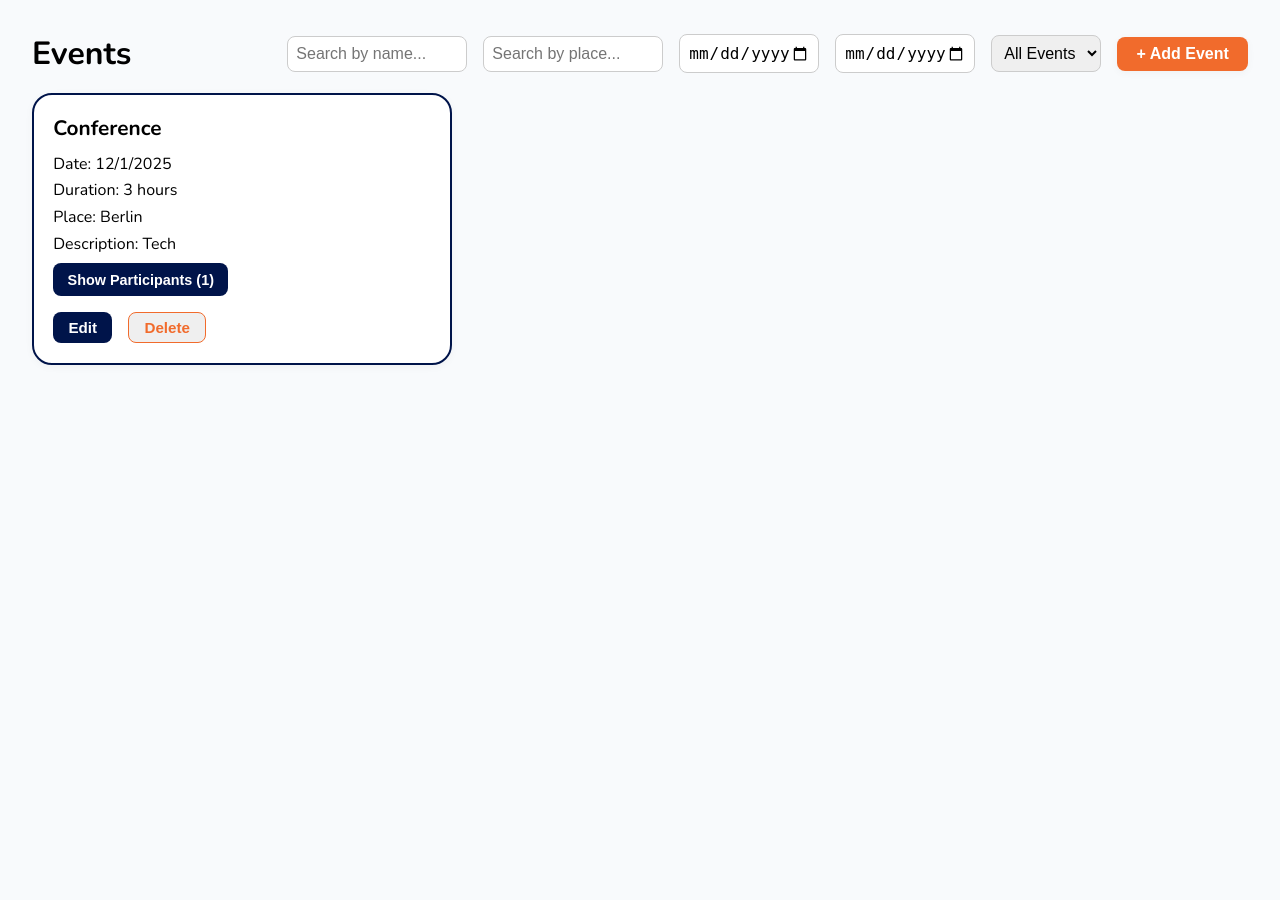
Scenario: EventsHome Component - Unit Tests › Event Display Features › should close participants modal when close button is clicked
The width and height of the screenshot is (1280, 900).
Note: Open modal
Click the button "Show Participants (1)".
click(141, 280)  # box [53,263,228,296]
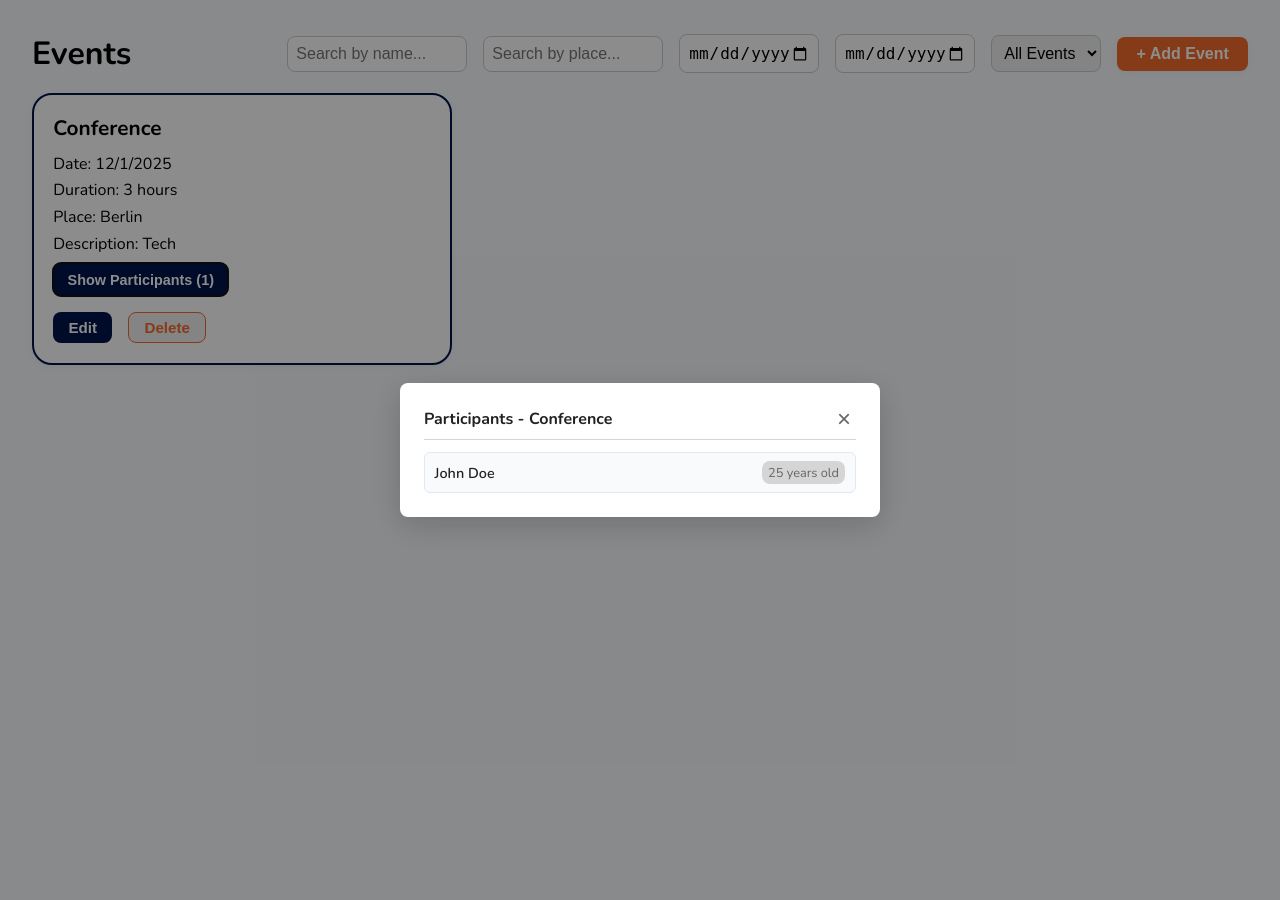
Result: the heading "Participants - Conference" is shown at [424,408,612,430]
Note: Close modal
Click the button "×".
click(844, 418)  # box [832,406,856,430]
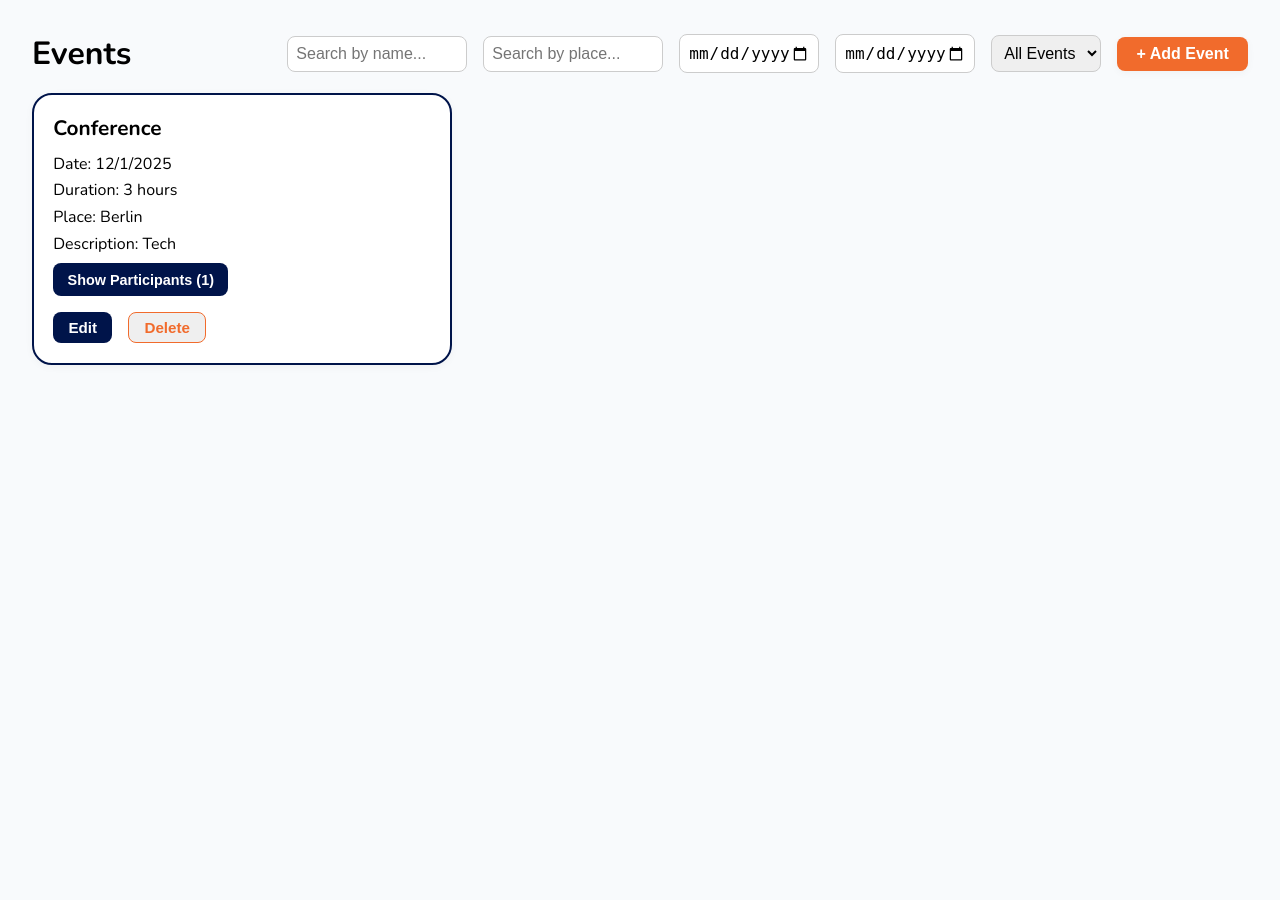
Result: the heading "Participants - Conference" is gone
